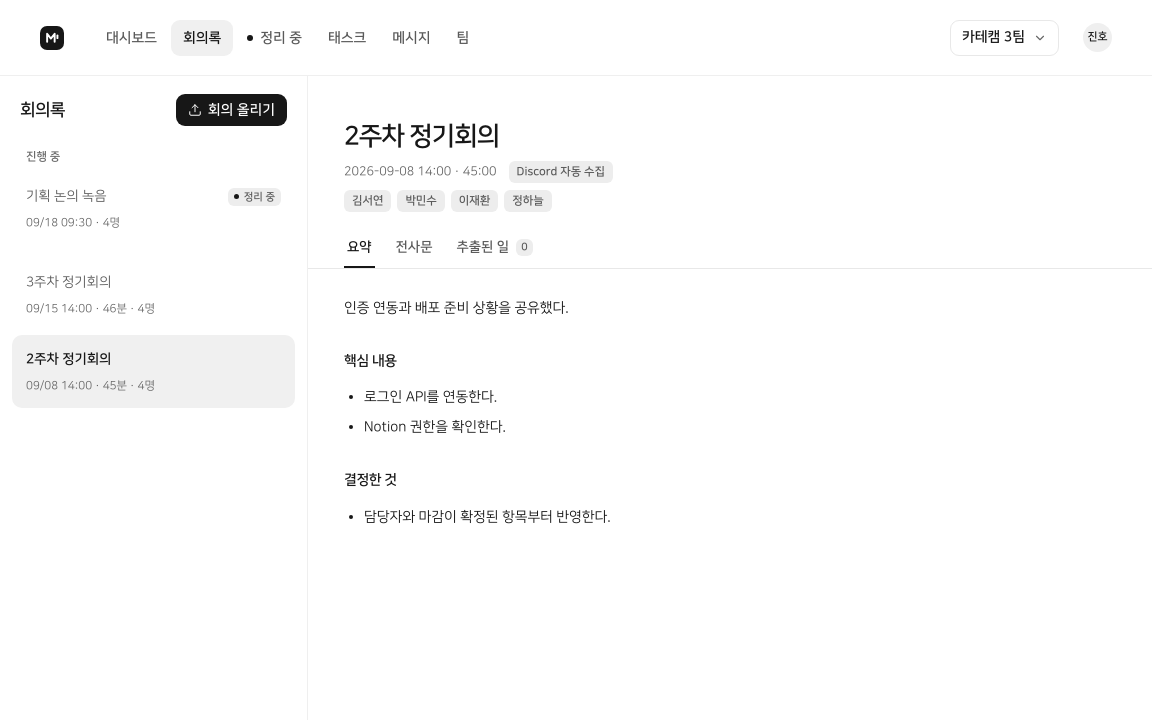
Test case: 회의록 상세 (U5-3) › 항목이 0건인 추출은 반영된 태스크 빈 상태다
This screenshot has width=1152, height=720.
Check: the heading "2주차 정기회의" is shown, box x1=344 y1=122 x2=499 y2=151
Click the tab "추출된 일 0" at (495, 249), box x1=453 y1=230 x2=536 y2=268
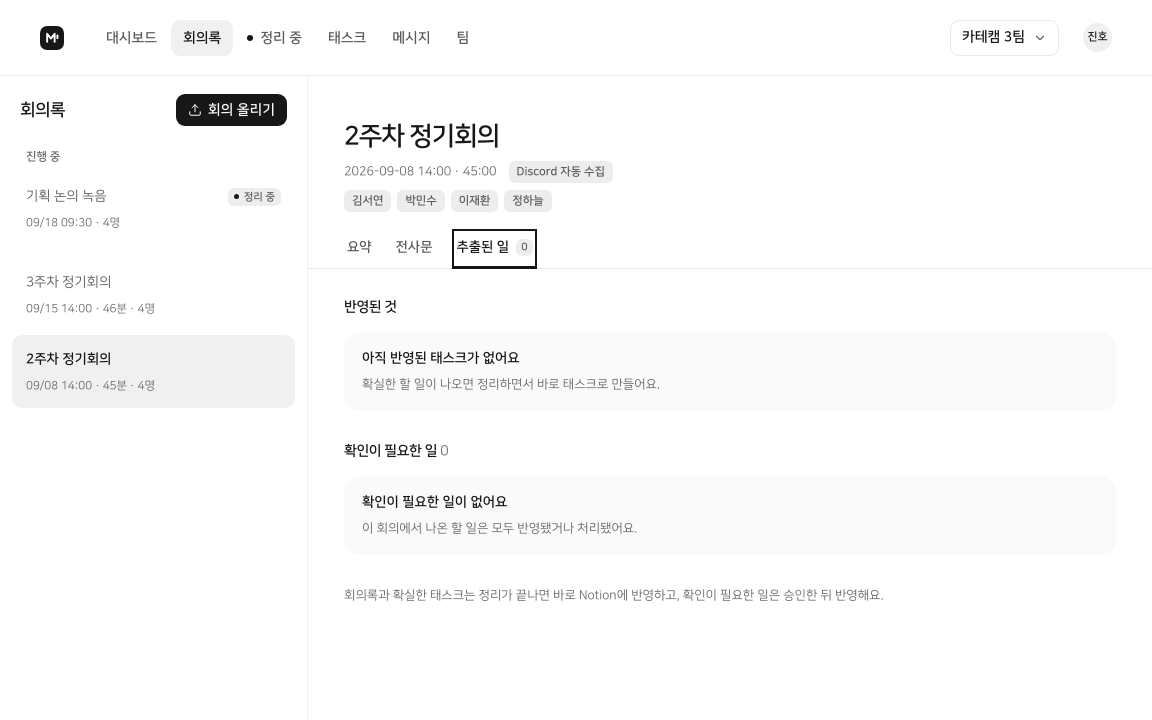
Check: the text "아직 반영된 태스크가 없어요" is shown, box x1=362 y1=352 x2=520 y2=366
